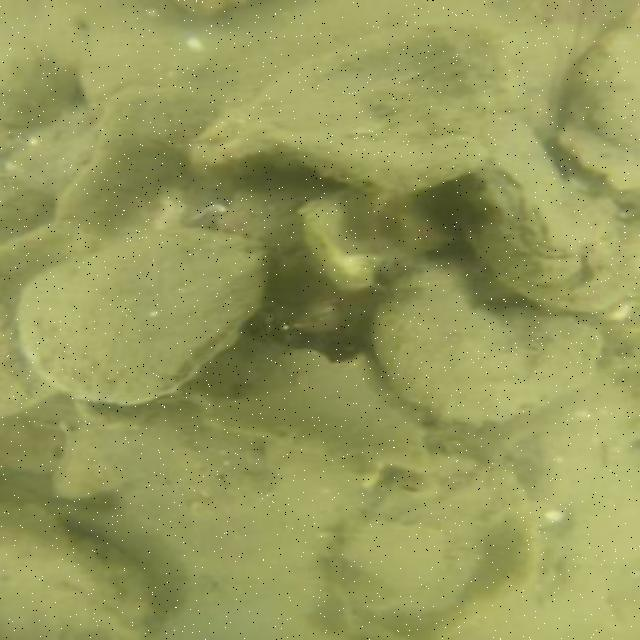Oyster-Closed: (189, 18, 528, 194), (313, 448, 576, 640), (12, 228, 267, 402), (367, 254, 604, 424), (178, 335, 436, 481), (453, 123, 638, 311), (44, 86, 232, 238), (2, 496, 156, 640), (292, 185, 455, 291), (564, 4, 637, 186), (45, 428, 201, 501)
